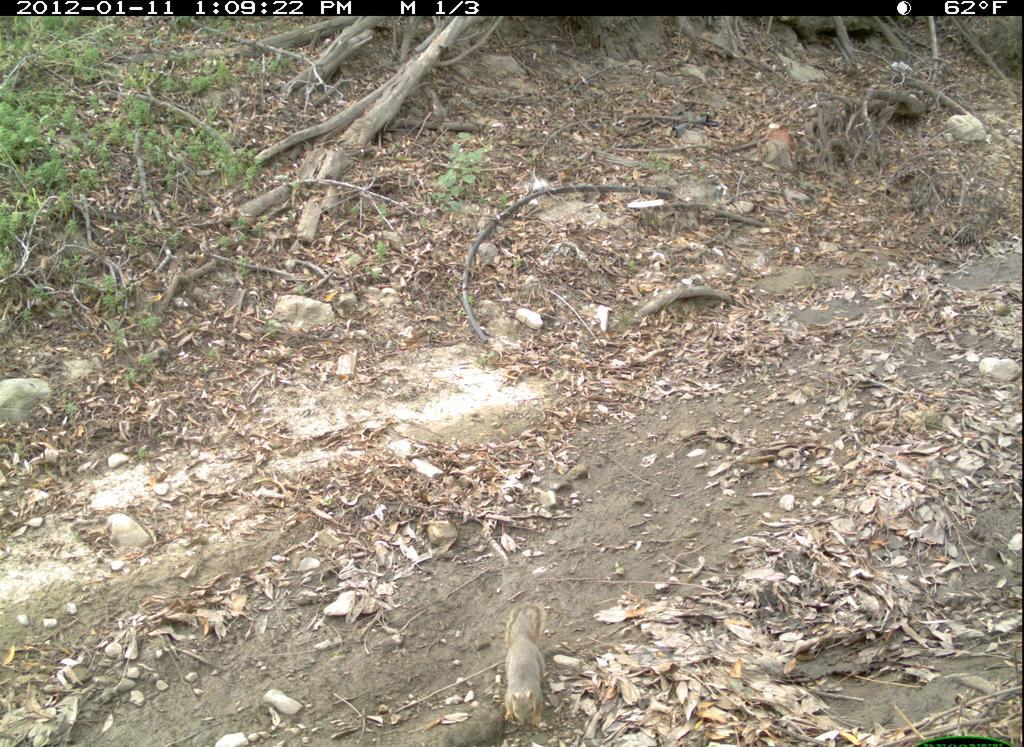squirrel: (459, 591, 585, 740)
